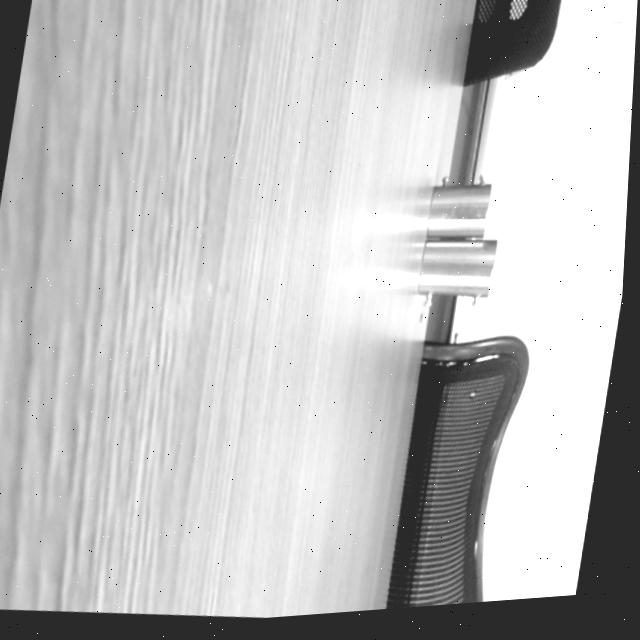Co_Lon: (417, 238, 498, 307)
Co_Nho: (425, 172, 494, 238)
